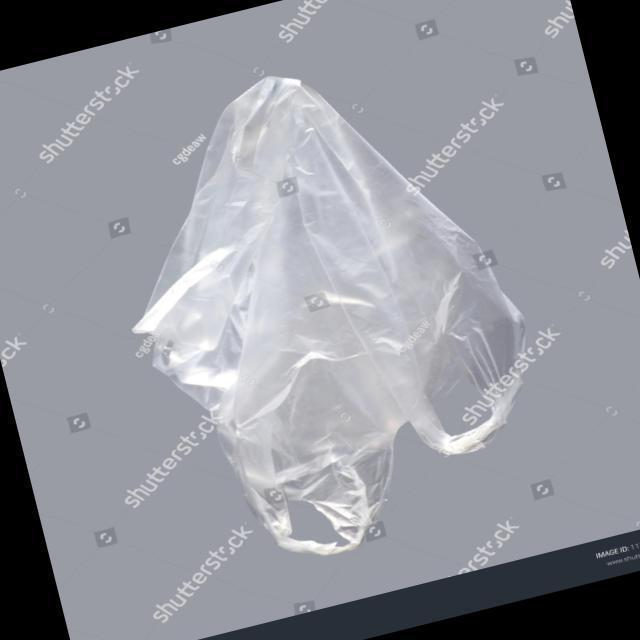Plastic_Bag: (83, 23, 576, 596)
